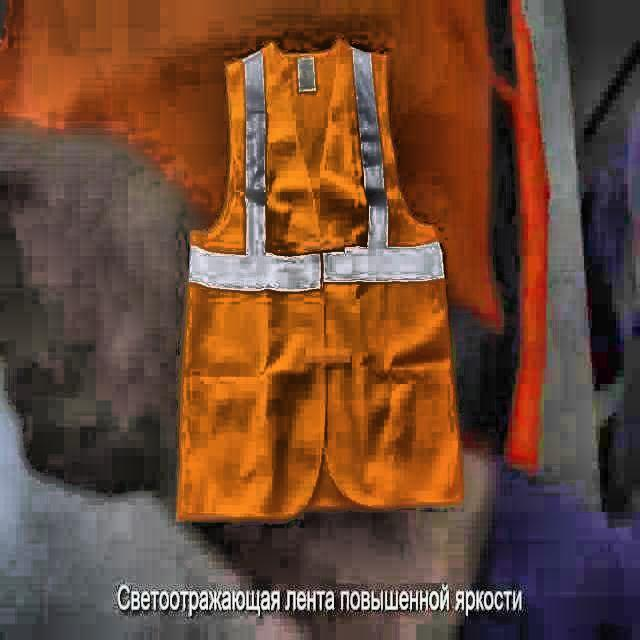safety_jacket: (176, 35, 464, 525)
